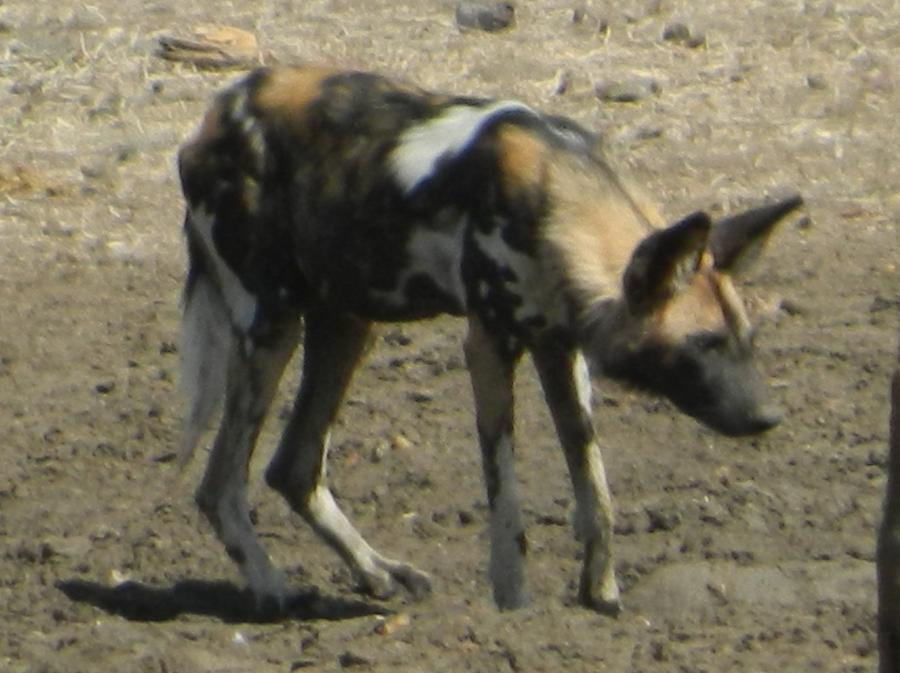wilddog: (1, 1, 900, 673)
